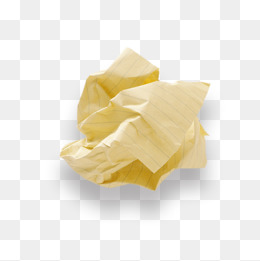flexible: (59, 48, 212, 191)
